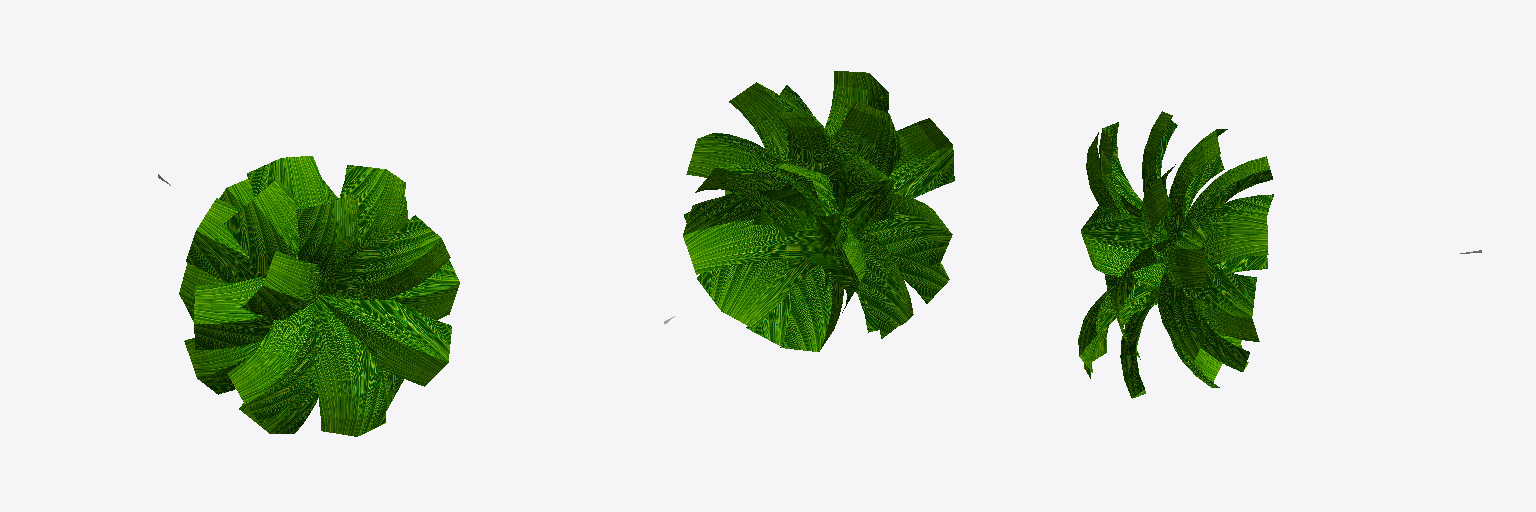
3 views of the same model, side by side, from view 1: azimuth 30°, elevation 25°; view 2: azimuth 150°, elevation 25°; view 3: azimuth 270°, elevation 25° (orthographic).
Visible parts, largest first — view 1: palm_folhas; view 2: palm_folhas; view 3: palm_folhas.
Part boxes in pixels (left/top/right/bottom): palm_folhas: left=158, top=156, right=459, bottom=436; palm_folhas: left=664, top=71, right=954, bottom=351; palm_folhas: left=1078, top=111, right=1481, bottom=398.
Bounding box in the file's own units: 7.3 × 7.05 × 10.34.
Materials: 2 (1 with a texture image).